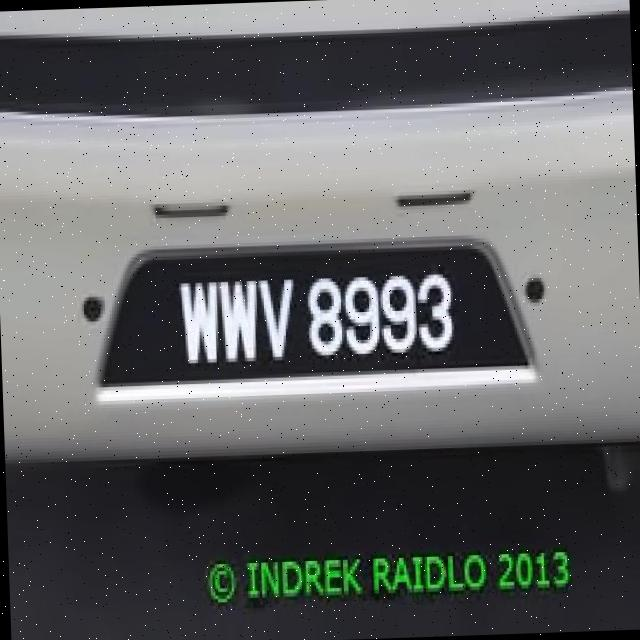License_Plate: (89, 233, 537, 384)
